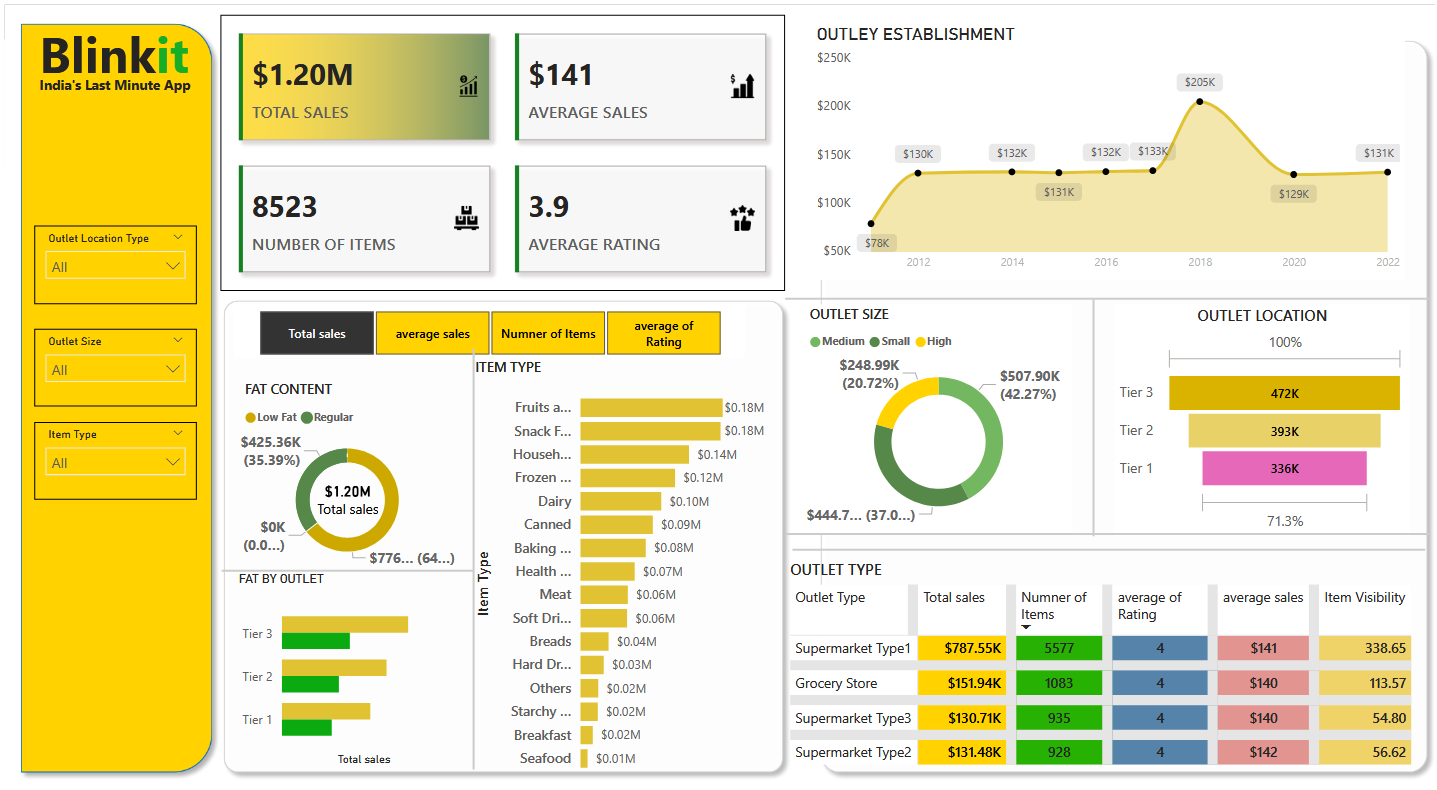

The dashboard page shown, as its layout file describes it:
{"tool":"powerbi","page":{"name":"Page 1","canvas":[1400,800],"ordinal":0},"visuals":[{"type":"shape","box":[7.4,10.3,204.7,749.5],"z":0},{"type":"textbox","box":[29.4,10.3,169.3,73.6],"z":1000},{"type":"textbox","box":[29.4,64.8,169.3,38.3],"z":2000},{"type":"cardVisual","fields":{"Data":["BlinkIT Grocery Data.Total sales","BlinkIT Grocery Data.average sales","BlinkIT Grocery Data.Numner of Items","BlinkIT Grocery Data.average of Rating"]},"box":[211.4,10,551.4,270],"z":3000},{"type":"shape","box":[204.7,279.8,565.4,480],"z":4000},{"type":"donutChart","title":"FAT CONTENT","fields":{"Y":["BlinkIT Grocery Data.Total sales","BlinkIT Grocery Data.average sales"],"Category":["BlinkIT Grocery Data.Item Fat Content"]},"box":[229.7,366.6,210.6,191.4],"z":5000},{"type":"slicer","fields":{"Values":["Matrics.Matrics"]},"box":[223.8,293,500.6,51.5],"z":6000},{"type":"cardVisual","fields":{"Data":["BlinkIT Grocery Data.Total sales"]},"box":[281.2,435.8,109,97.2],"z":7000},{"type":"clusteredBarChart","title":"FAT BY OUTLET","fields":{"Y":["BlinkIT Grocery Data.Total sales"],"Category":["BlinkIT Grocery Data.Outlet Location Type"],"Series":["BlinkIT Grocery Data.Item Fat Content"]},"box":[223.8,553.6,213.5,194.4],"z":8000},{"type":"shape","box":[212,541.9,245.9,23.6],"z":9000},{"type":"shape","box":[443.2,335.7,30.9,412.3],"z":10000},{"type":"barChart","title":"ITEM TYPE","fields":{"Y":["BlinkIT Grocery Data.Total sales"],"Category":["BlinkIT Grocery Data.Item Type"]},"box":[455,344.6,293,415.2],"z":11000},{"type":"shape","box":[788.6,25.7,611.4,734.3],"z":12000},{"type":"lineChart","title":"OUTLEY ESTABLISHMENT","fields":{"Category":["BlinkIT Grocery Data.Outlet Establishment Year"],"Y":["BlinkIT Grocery Data.Total sales"]},"box":[789.2,19.1,580.1,250.3],"z":13000},{"type":"shape","box":[762.9,281.4,630,12.9],"z":14000},{"type":"donutChart","title":"OUTLET SIZE","fields":{"Y":["BlinkIT Grocery Data.Total sales"],"Category":["BlinkIT Grocery Data.Outlet Size"]},"box":[781.9,293,262.1,225.3],"z":15000},{"type":"shape","box":[1049.9,287.1,29.4,232.6],"z":16000},{"type":"funnel","title":"OUTLET LOCATION","fields":{"Category":["BlinkIT Grocery Data.Outlet Location Type"],"Y":["Sum(BlinkIT Grocery Data.Sales)"]},"box":[1085.2,293,288.6,226.8],"z":17000},{"type":"shape","box":[762.9,511.4,631.4,12.9],"z":18000},{"type":"pivotTable","title":"OUTLET TYPE","fields":{"Rows":["BlinkIT Grocery Data.Outlet Type"],"Values":["BlinkIT Grocery Data.Total sales","BlinkIT Grocery Data.Numner of Items","BlinkIT Grocery Data.average of Rating","BlinkIT Grocery Data.average sales","Sum(BlinkIT Grocery Data.Item Visibility)"]},"box":[762.7,541.9,631.7,237.1],"z":19000},{"type":"shape","box":[770.1,524.2,618.4,17.7],"z":20000},{"type":"slicer","fields":{"Values":["BlinkIT Grocery Data.Outlet Location Type"]},"box":[29.4,216.5,159,76.6],"z":21000},{"type":"slicer","fields":{"Values":["BlinkIT Grocery Data.Outlet Size"]},"box":[29.4,316.6,159,76.6],"z":22000},{"type":"slicer","fields":{"Values":["BlinkIT Grocery Data.Item Type"]},"box":[29.4,407.9,159,76.6],"z":23000}]}

Visuals, with their boxes on the page's 1400x800 design canvas (x1, y1, x2, y2). These are canvas units, not pixel positions in the 1437x790 screenshot, which may show the page scaled, cropped or inside an application window:
shape: <bbox>7, 10, 212, 760</bbox>
textbox: <bbox>29, 10, 199, 84</bbox>
textbox: <bbox>29, 65, 199, 103</bbox>
cardVisual - BlinkIT Grocery Data.Total sales x BlinkIT Grocery Data.average sales: <bbox>211, 10, 763, 280</bbox>
shape: <bbox>205, 280, 770, 760</bbox>
"FAT CONTENT" donutChart: <bbox>230, 367, 440, 558</bbox>
slicer - Matrics.Matrics: <bbox>224, 293, 724, 344</bbox>
cardVisual - BlinkIT Grocery Data.Total sales: <bbox>281, 436, 390, 533</bbox>
"FAT BY OUTLET" clusteredBarChart: <bbox>224, 554, 437, 748</bbox>
shape: <bbox>212, 542, 458, 566</bbox>
shape: <bbox>443, 336, 474, 748</bbox>
"ITEM TYPE" barChart: <bbox>455, 345, 748, 760</bbox>
shape: <bbox>789, 26, 1400, 760</bbox>
"OUTLEY ESTABLISHMENT" lineChart: <bbox>789, 19, 1369, 269</bbox>
shape: <bbox>763, 281, 1393, 294</bbox>
"OUTLET SIZE" donutChart: <bbox>782, 293, 1044, 518</bbox>
shape: <bbox>1050, 287, 1079, 520</bbox>
"OUTLET LOCATION" funnel: <bbox>1085, 293, 1374, 520</bbox>
shape: <bbox>763, 511, 1394, 524</bbox>
"OUTLET TYPE" pivotTable: <bbox>763, 542, 1394, 779</bbox>
shape: <bbox>770, 524, 1388, 542</bbox>
slicer - BlinkIT Grocery Data.Outlet Location Type: <bbox>29, 216, 188, 293</bbox>
slicer - BlinkIT Grocery Data.Outlet Size: <bbox>29, 317, 188, 393</bbox>
slicer - BlinkIT Grocery Data.Item Type: <bbox>29, 408, 188, 484</bbox>
